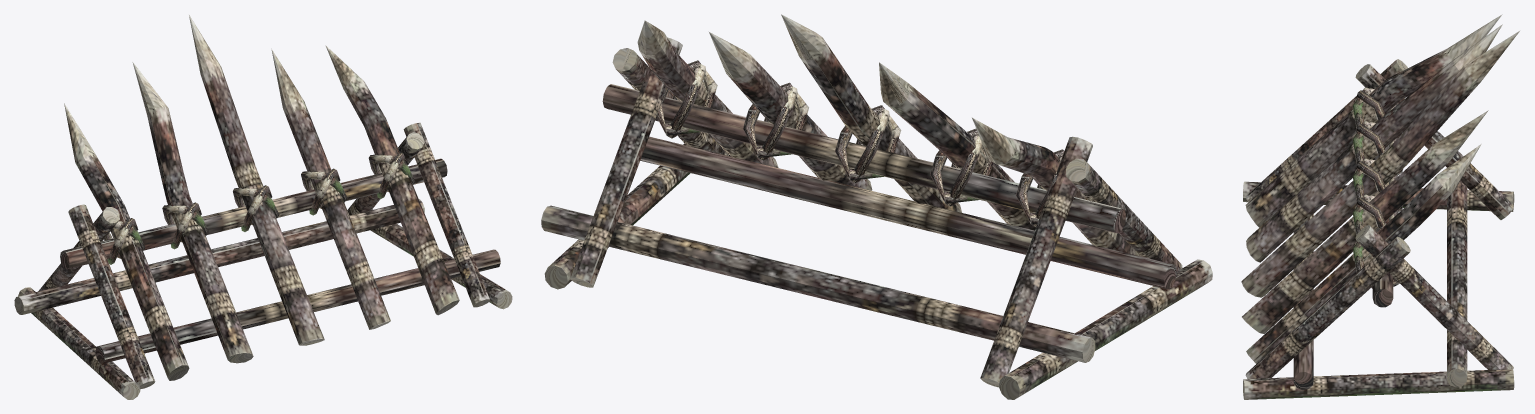
Rendered from barricade.fbx.
3 views of the same model, side by side, from view 1: azimuth 30°, elevation 25°; view 2: azimuth 150°, elevation 25°; view 3: azimuth 270°, elevation 25° (orthographic). The views are drawn at different scales.
Visible parts, largest first — view 1: Barricade; view 2: Barricade; view 3: Barricade.
Boxes of the visible parts, left/top/right/bottom form: Barricade: left=14, top=15, right=512, bottom=399; Barricade: left=541, top=14, right=1212, bottom=399; Barricade: left=1241, top=14, right=1519, bottom=399.
Size of the model in its own units: 22.2 by 12.94 by 12.18.
